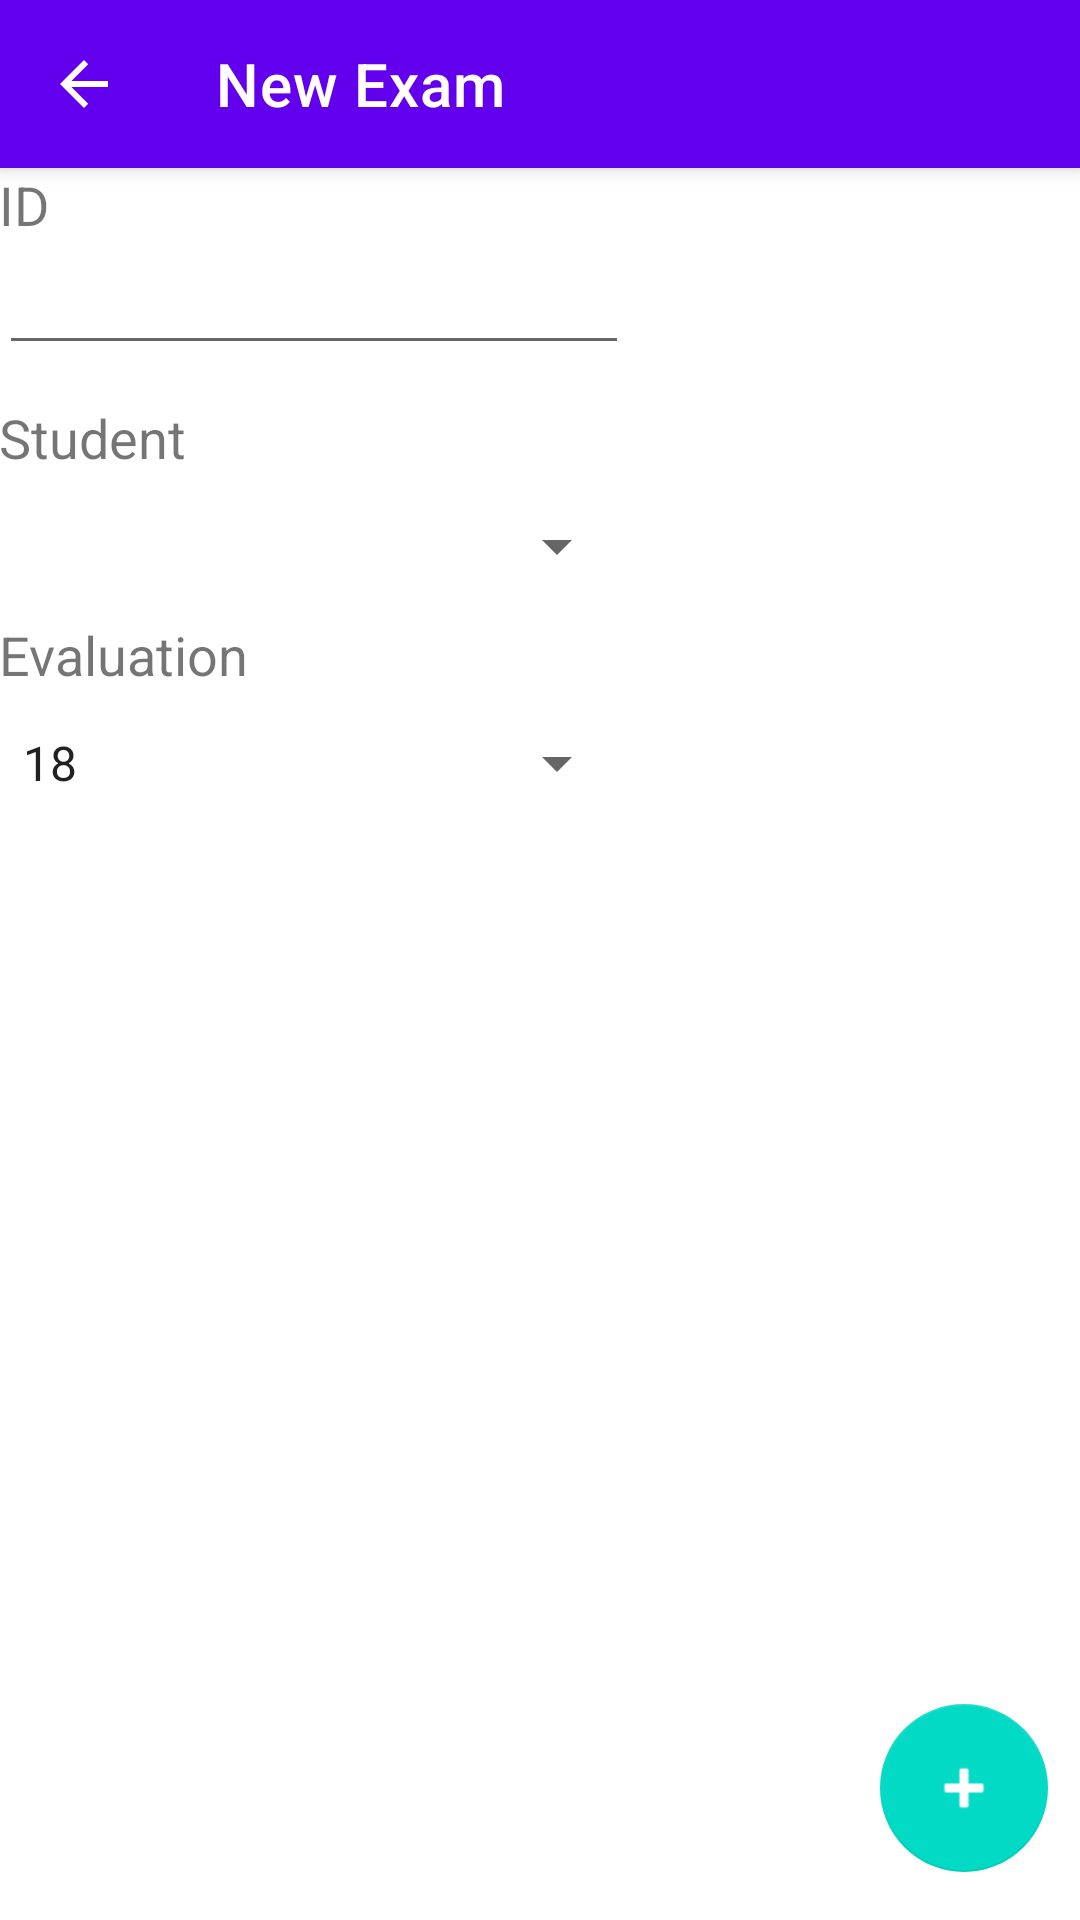

Where to tap for icons on this 1080 × 1920 app screen, as (x=x, y=y):
add: (x=964, y=1788)
